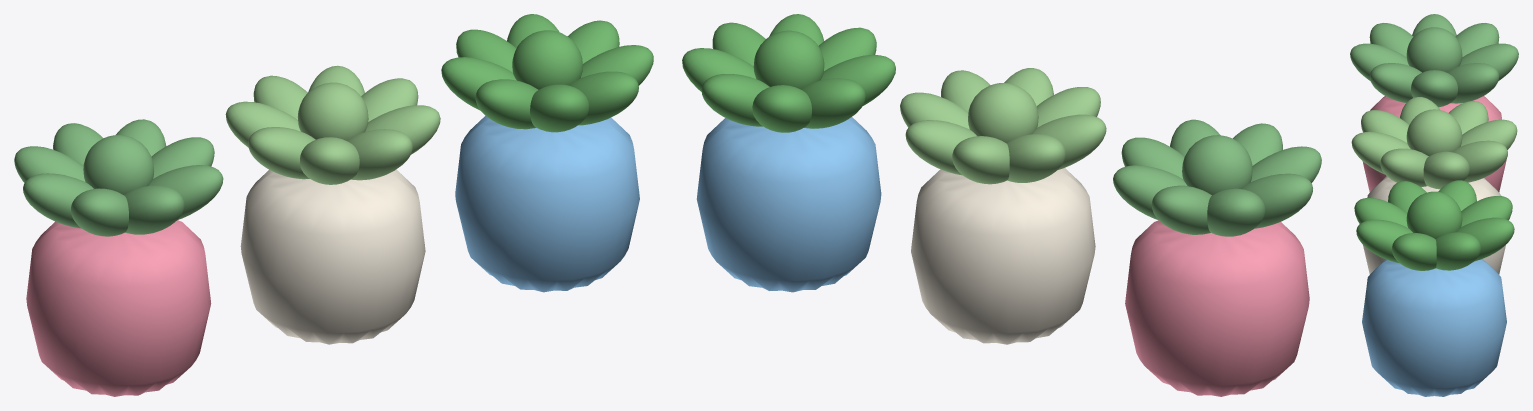
The model's file is deco_suculentas.glb.
The picture shows the model from 3 angles, left to right: view 1: azimuth 30°, elevation 25°; view 2: azimuth 150°, elevation 25°; view 3: azimuth 270°, elevation 25°; orthographic projection. The views are drawn at different scales.
Parts seen in each view (by area): view 1: materita 0.001, materita 2.001, materita 1.001, centro suculenta 1.001, centro suculenta 2.001, centro suculenta 0.001, hoja suculenta 15.001, hoja suculenta 22.001, hoja suculenta 13.001, hoja suculenta 24.001, hoja suculenta 06.001, hoja suculenta 14.001 (+18 smaller); view 2: materita 1.001, materita 0.001, materita 2.001, centro suculenta 0.001, centro suculenta 1.001, centro suculenta 2.001, hoja suculenta 21.001, hoja suculenta 27.001, hoja suculenta 02.001, hoja suculenta 12.001, hoja suculenta 20.001, hoja suculenta 03.001 (+18 smaller); view 3: materita 2.001, centro suculenta 1.001, centro suculenta 0.001, centro suculenta 2.001, hoja suculenta 01.001, hoja suculenta 26.001, materita 1.001, materita 0.001, hoja suculenta 25.001, hoja suculenta 10.001, hoja suculenta 07.001, hoja suculenta 24.001 (+18 smaller).
Part boxes in pixels (x1,y1,x2,y2): materita 0.001: (26,220,211,396); materita 2.001: (455,115,639,292); materita 1.001: (240,169,425,344); centro suculenta 1.001: (297,82,368,140); centro suculenta 2.001: (512,30,582,89); centro suculenta 0.001: (83,135,153,194); hoja suculenta 15.001: (347,129,412,180); hoja suculenta 22.001: (475,79,538,129); hoja suculenta 13.001: (248,127,315,179); hoja suculenta 24.001: (569,71,638,125); hoja suculenta 06.001: (124,185,184,234); hoja suculenta 14.001: (300,137,359,184); materita 1.001: (911,168,1095,344); materita 0.001: (1125,220,1309,396); materita 2.001: (696,117,881,292); centro suculenta 0.001: (1182,135,1252,195); centro suculenta 1.001: (968,83,1038,143); centro suculenta 2.001: (753,30,824,89); hoja suculenta 21.001: (801,78,865,128); hoja suculenta 27.001: (701,74,769,126); hoja suculenta 02.001: (1151,185,1211,234); hoja suculenta 12.001: (1007,134,1065,182); hoja suculenta 20.001: (752,85,811,132); hoja suculenta 03.001: (1207,188,1265,236); materita 2.001: (1362,259,1506,396); centro suculenta 1.001: (1406,109,1462,156); centro suculenta 0.001: (1406,27,1462,72); centro suculenta 2.001: (1406,191,1462,239); hoja suculenta 01.001: (1447,63,1499,103); hoja suculenta 26.001: (1436,232,1480,270); materita 1.001: (1363,176,1505,274); materita 0.001: (1362,96,1506,192); hoja suculenta 25.001: (1392,233,1436,270); hoja suculenta 10.001: (1453,140,1507,182); hoja suculenta 07.001: (1369,63,1421,102); hoja suculenta 24.001: (1356,219,1412,263).
Bounding box in the file's own units: 0.3416 × 0.1272 × 0.1043.
